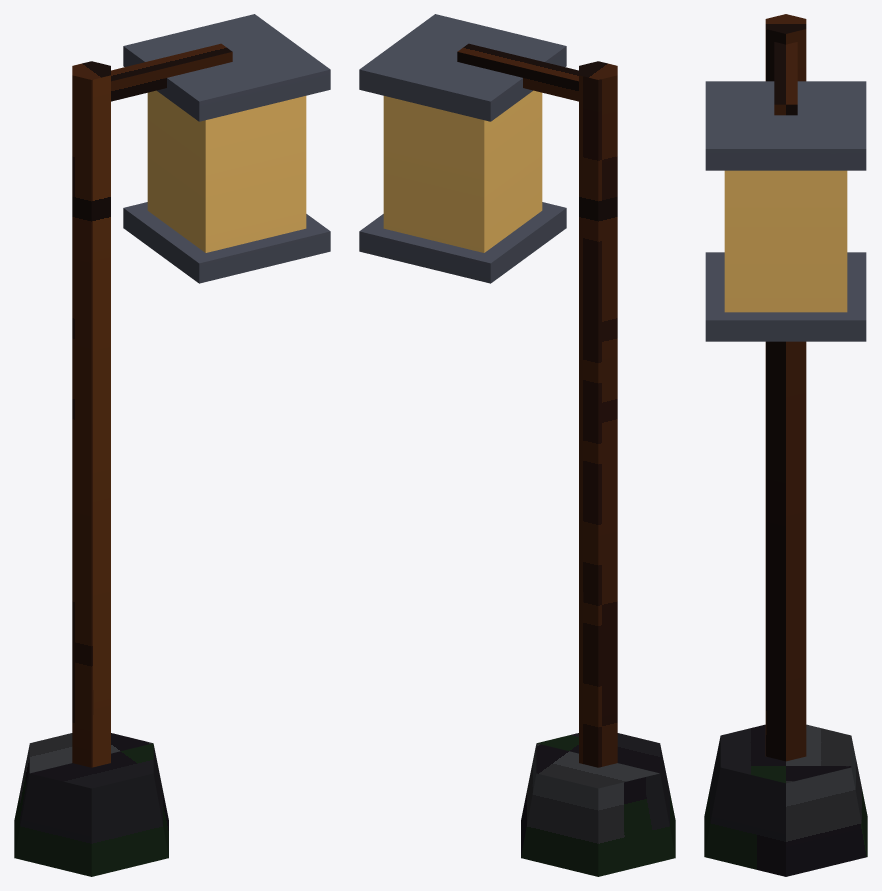
The model's file is warm_lantern.glb.
3 renders of one model, left to right at view 1: azimuth 30°, elevation 25°; view 2: azimuth 150°, elevation 25°; view 3: azimuth 270°, elevation 25°, orthographic. The views are drawn at different scales.
Parts seen in each view (by area): view 1: warm_lantern; view 2: warm_lantern; view 3: warm_lantern.
Boxes of the visible parts, x1,y1,x2,y2 form: warm_lantern: (14,14,330,876); warm_lantern: (359,14,675,876); warm_lantern: (704,14,867,876).
Size of the model in its own units: 0.72 by 1.9 by 0.3464.
4 materials, 2 textured.
